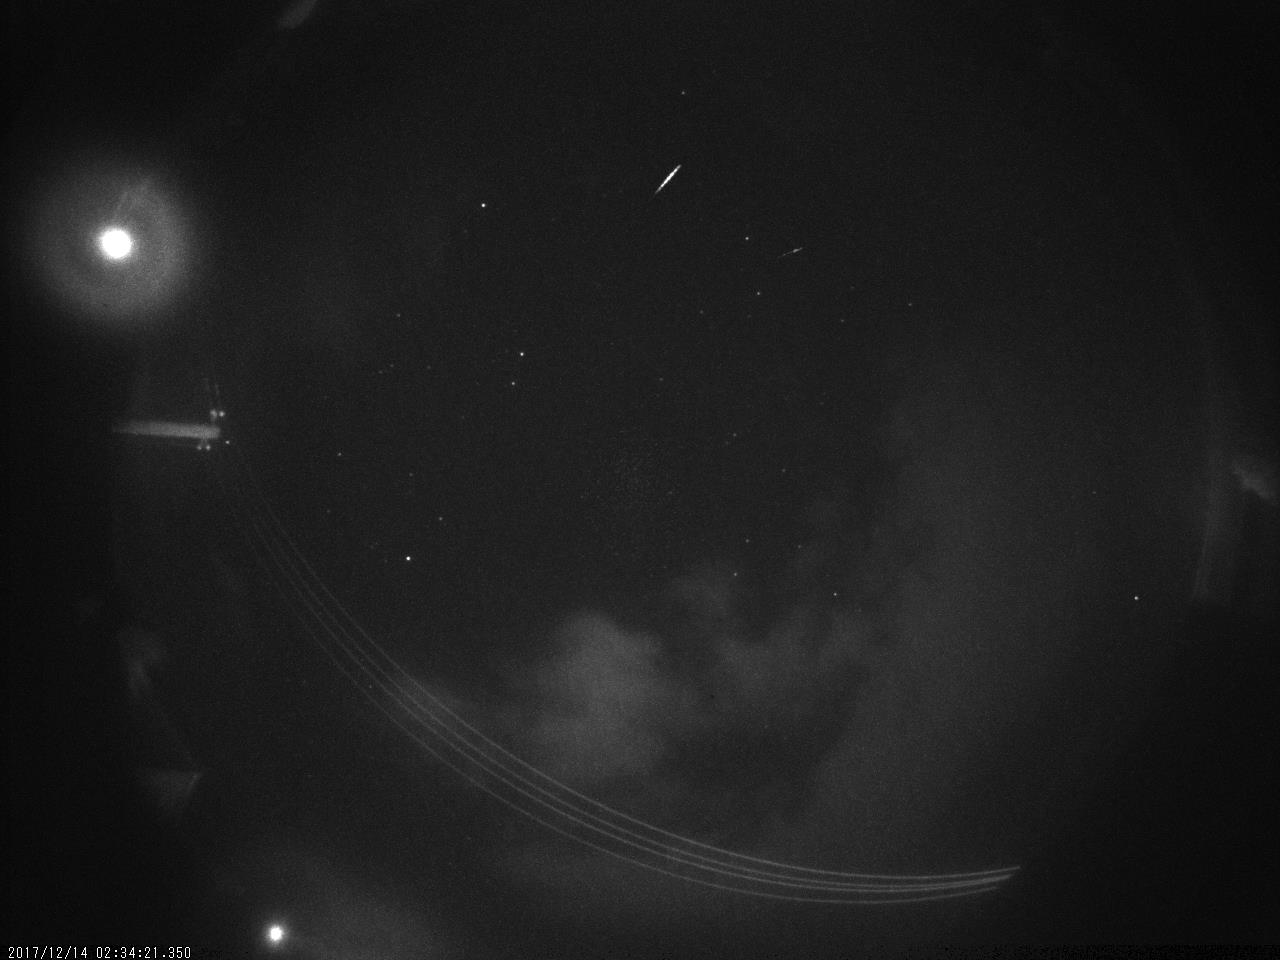meteor: (636, 147, 699, 217)
